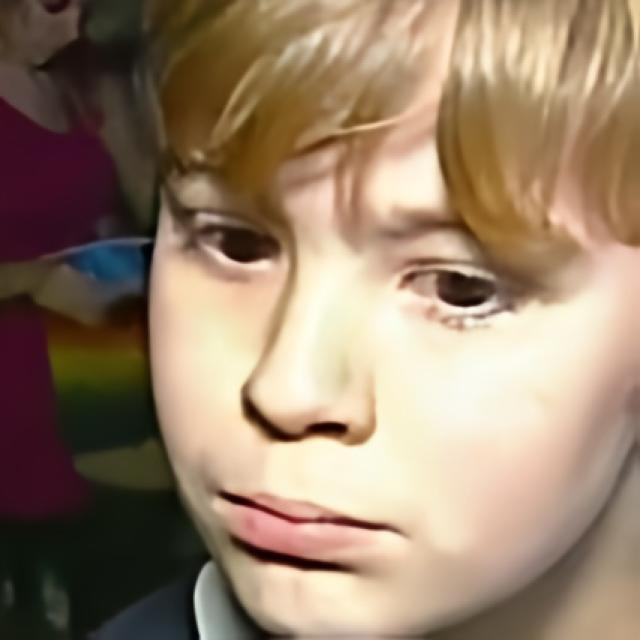sad: (147, 76, 640, 640)
